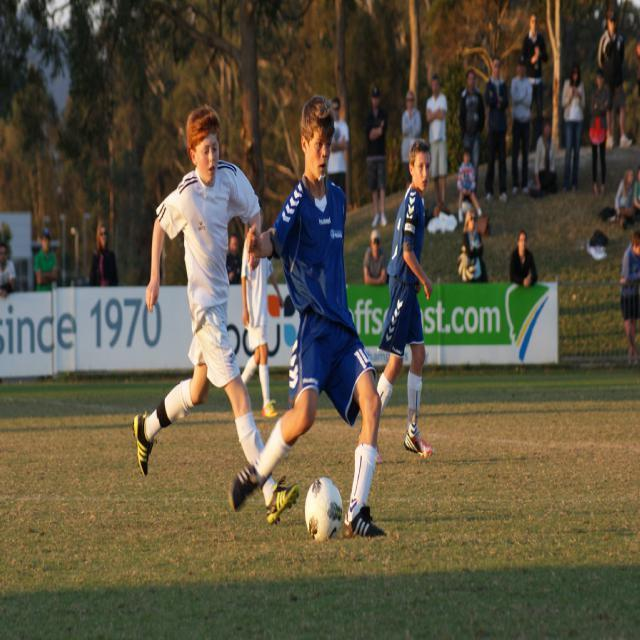football: (294, 470, 350, 537)
